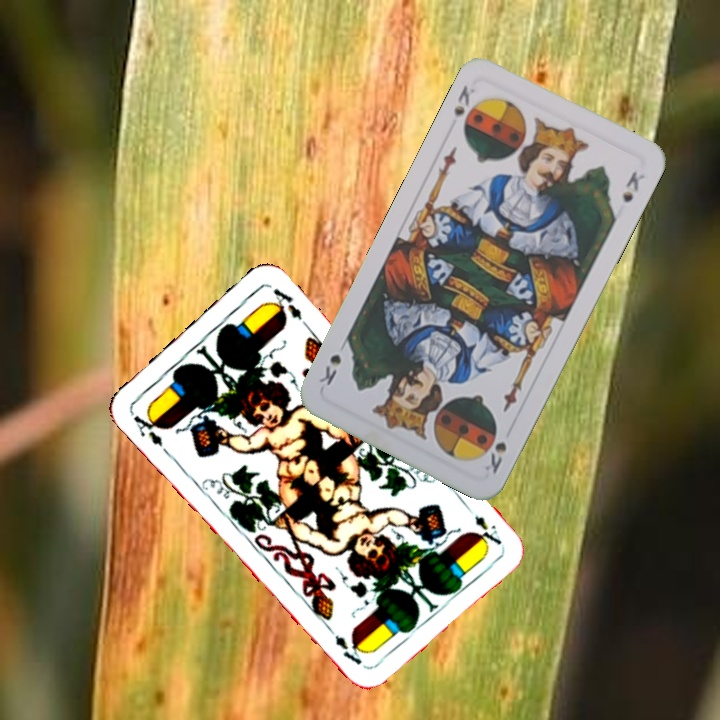EA: (128, 407, 167, 449), (470, 512, 505, 548)
SK: (480, 438, 509, 477), (449, 81, 478, 119)
